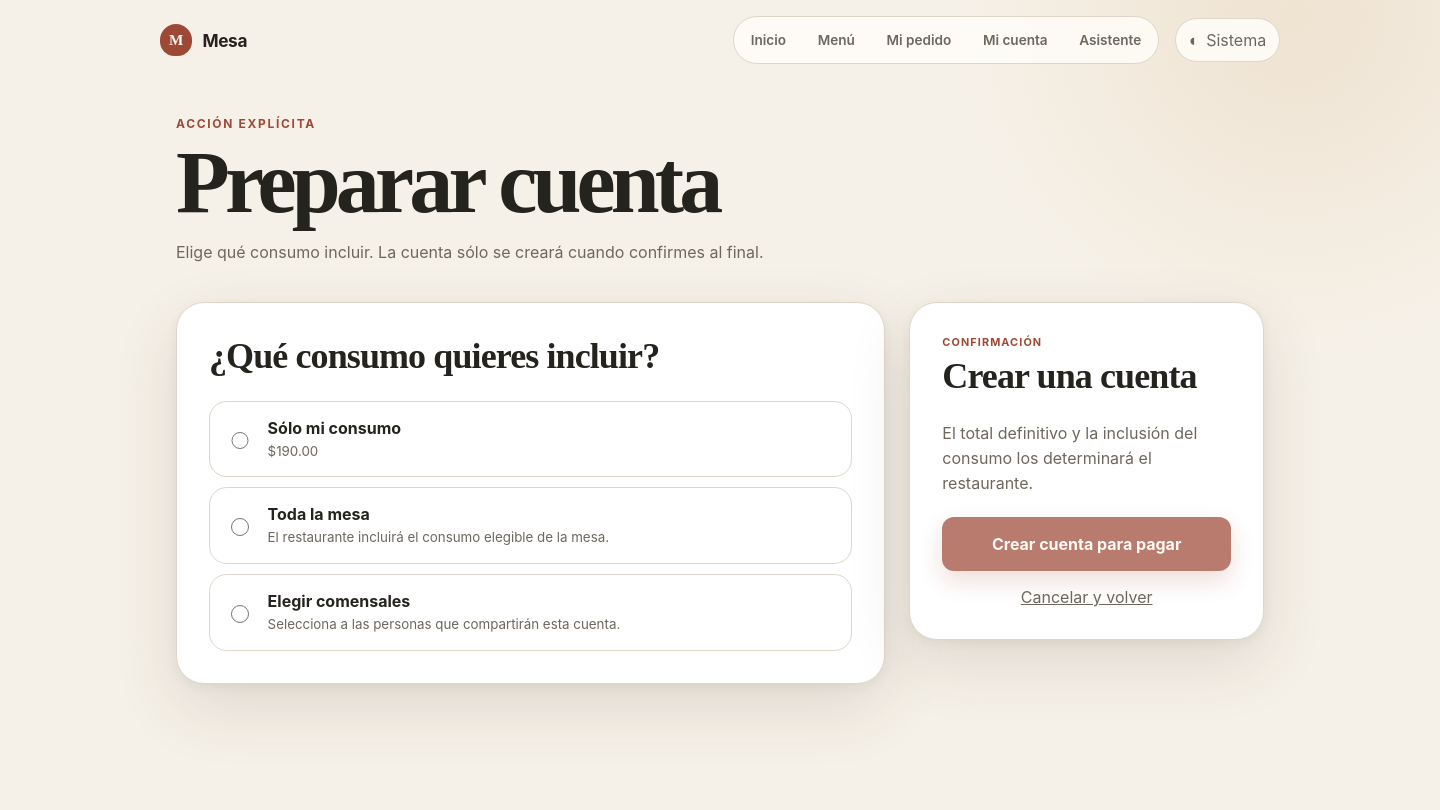
Test case: check creation and review › re-reads a conflict and routes a newly reported draft to order review
Step 1. Click the radio button labelled "Sólo mi consumo $190.00" → (240, 441), box [231, 432, 249, 449]
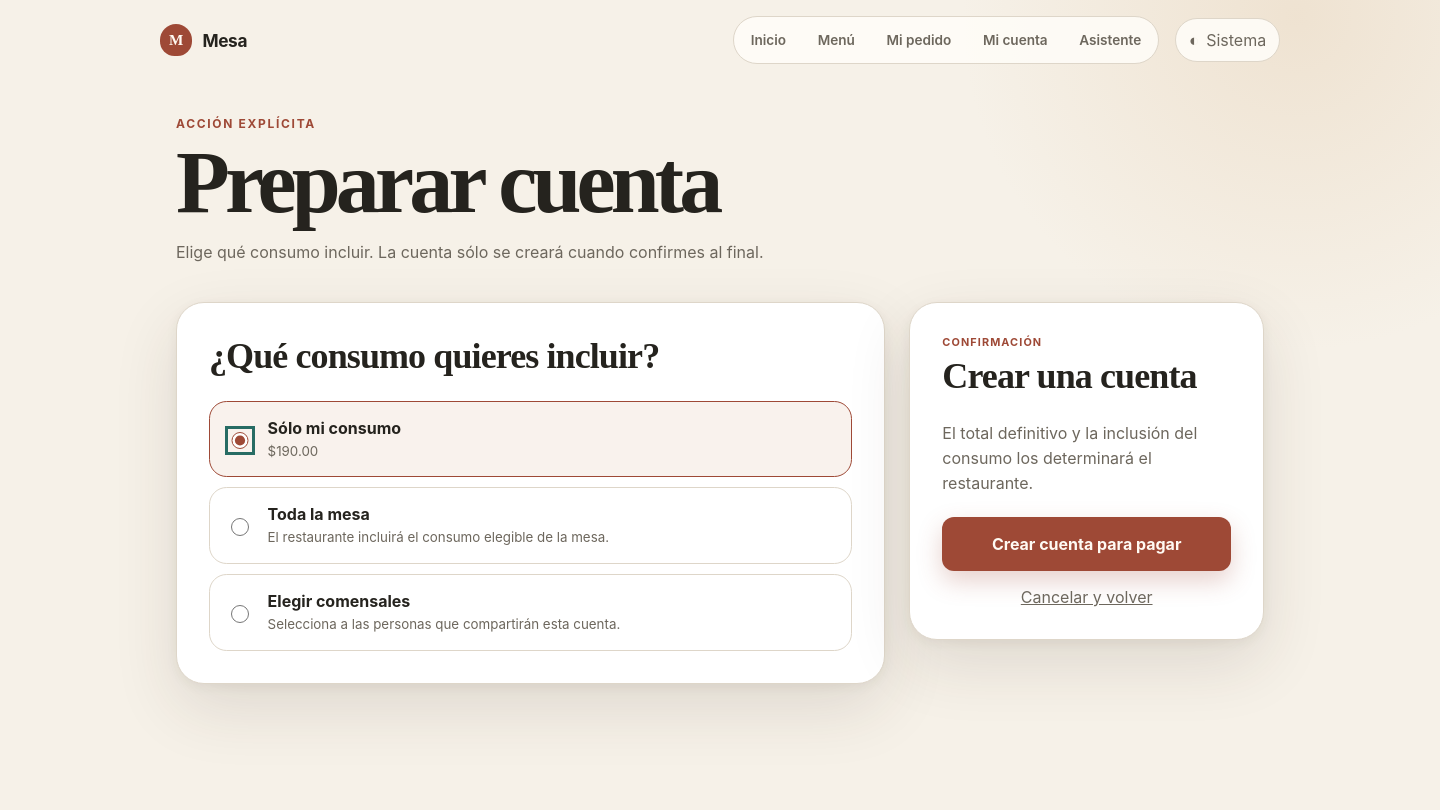
Step 2. Click the button "Crear cuenta para pagar" → (1087, 544), box [942, 517, 1231, 571]
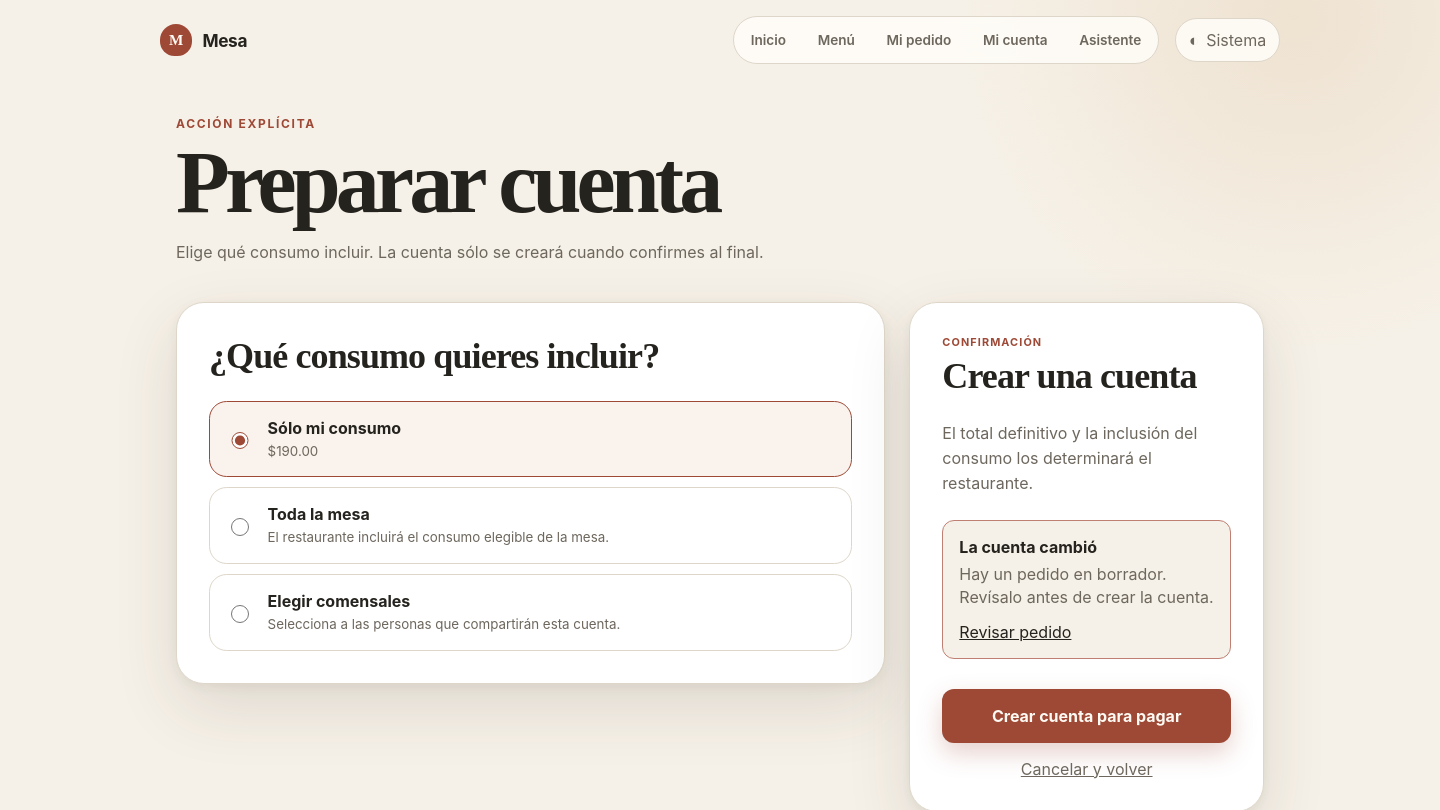
Expected: the text "Hay un pedido en borrador. Revísalo antes de crear la cuenta." is shown, [959, 563, 1214, 609]
